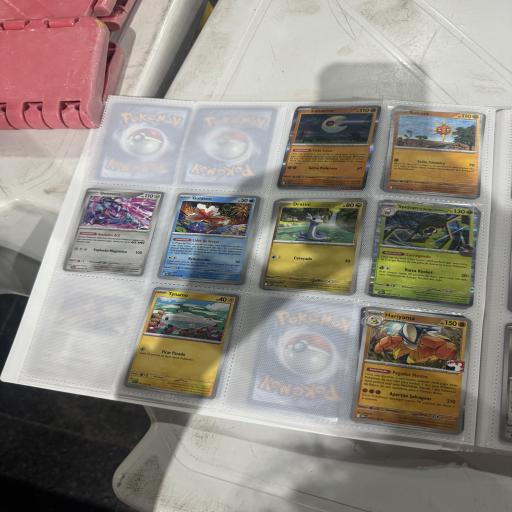card: (349, 304, 477, 435), (122, 279, 241, 401), (368, 195, 485, 308), (62, 170, 168, 293), (259, 190, 368, 297), (156, 188, 261, 286), (382, 105, 487, 199), (276, 103, 382, 190)
